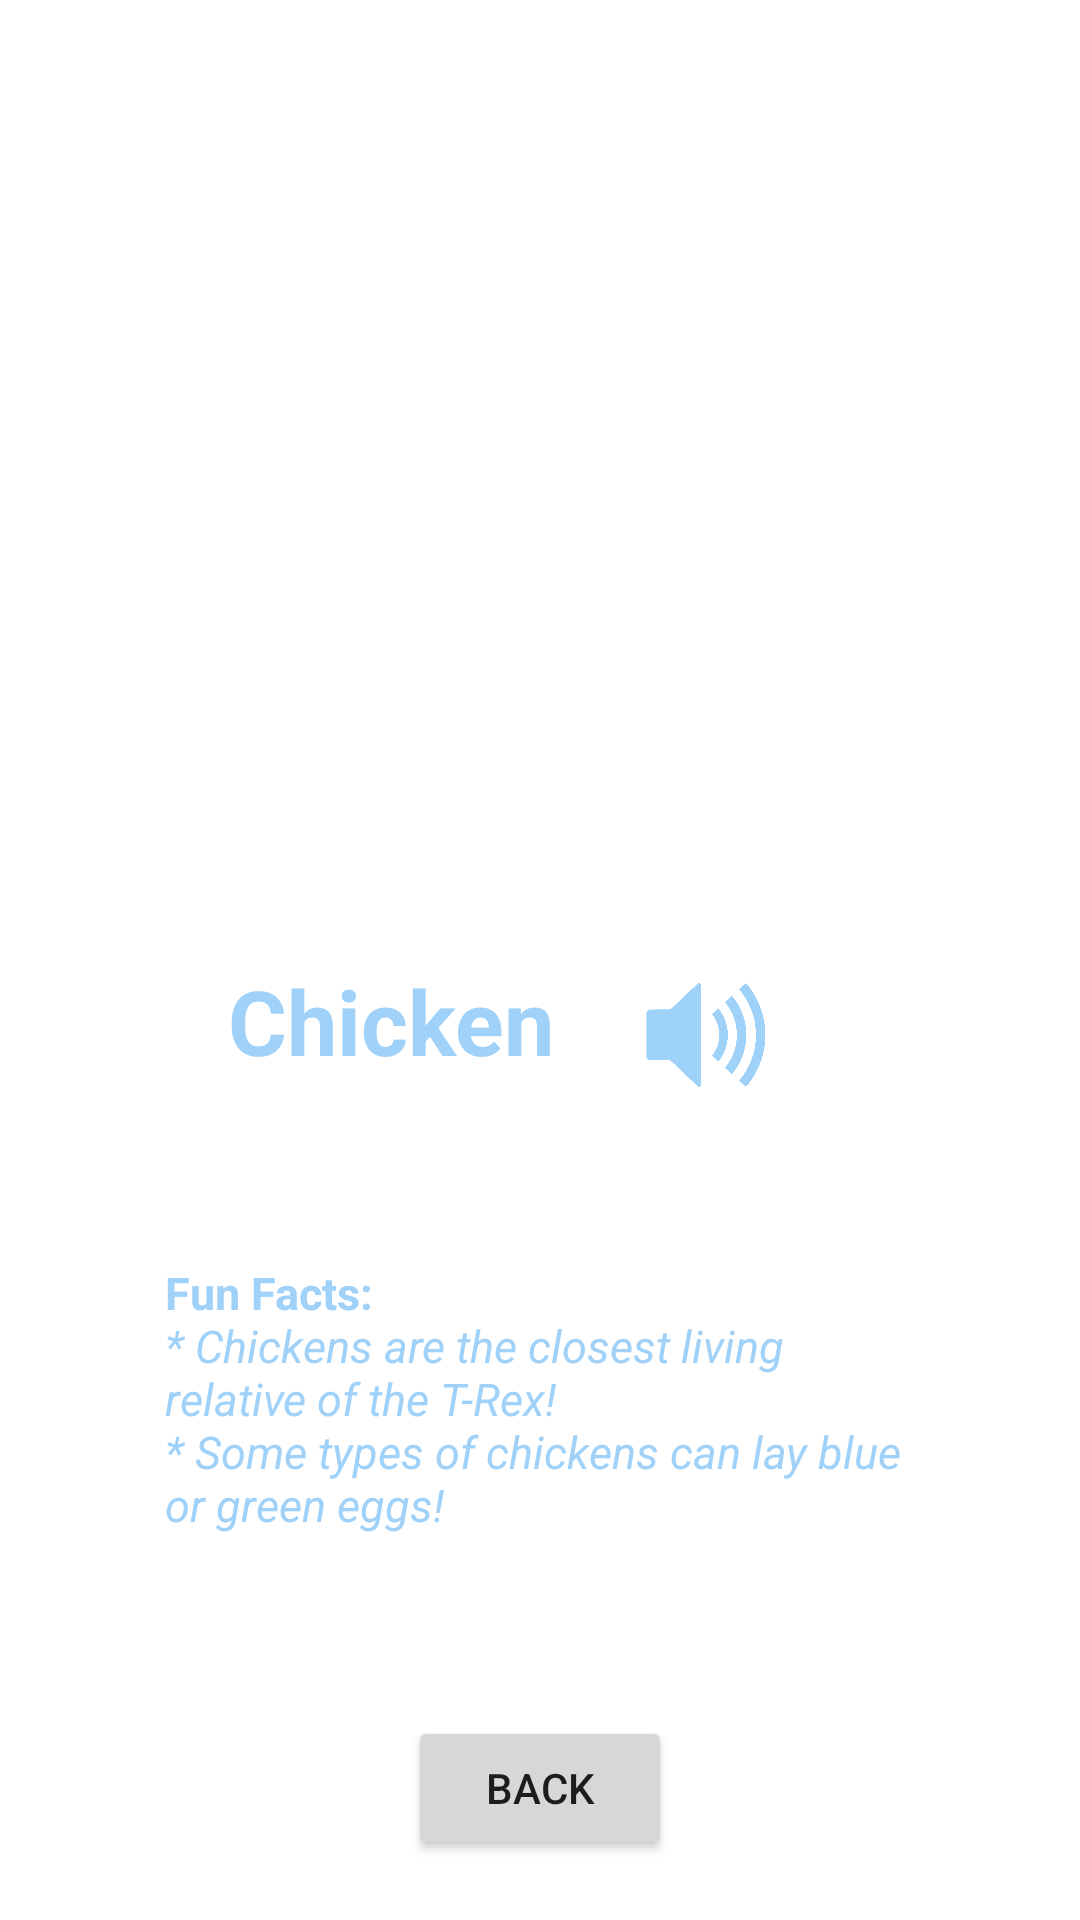

Locate icon controls on the screen. Image size 1080*1920, boxes as (x1, y1, x2, y2).
volume: (646, 983, 765, 1087)
